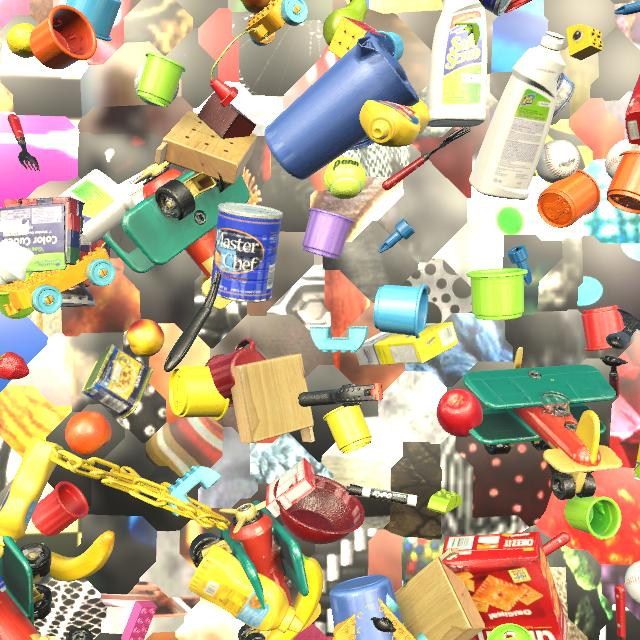ycb_002_master_chef_can: (210, 203, 283, 302), (478, 0, 512, 16), (0, 575, 6, 592)
ycb_003_cracker_box: (442, 531, 568, 640), (625, 75, 640, 146)
ycb_004_sugar_box: (355, 322, 458, 366), (118, 170, 146, 205), (634, 444, 640, 481)
ycb_006_mustard_bottle: (188, 545, 304, 633), (0, 437, 64, 558), (359, 97, 430, 147)
ycb_007_tuna_fish_can: (552, 72, 575, 118)
ycb_009_gelatin_box: (266, 457, 316, 518)
ycb_010_potted_meat_can: (81, 344, 153, 419)
ycb_011_banana: (265, 553, 323, 640), (41, 530, 115, 581)
ycb_012_strawberry: (0, 352, 29, 380)
ycb_013_apple: (437, 389, 483, 437)
ycb_014_lemon: (7, 23, 35, 58)
ycb_015_peach: (127, 319, 164, 357), (241, 0, 270, 14)
ycb_016_pear: (323, 0, 368, 46), (550, 379, 570, 412)
ycb_017_orange: (65, 411, 112, 456)
